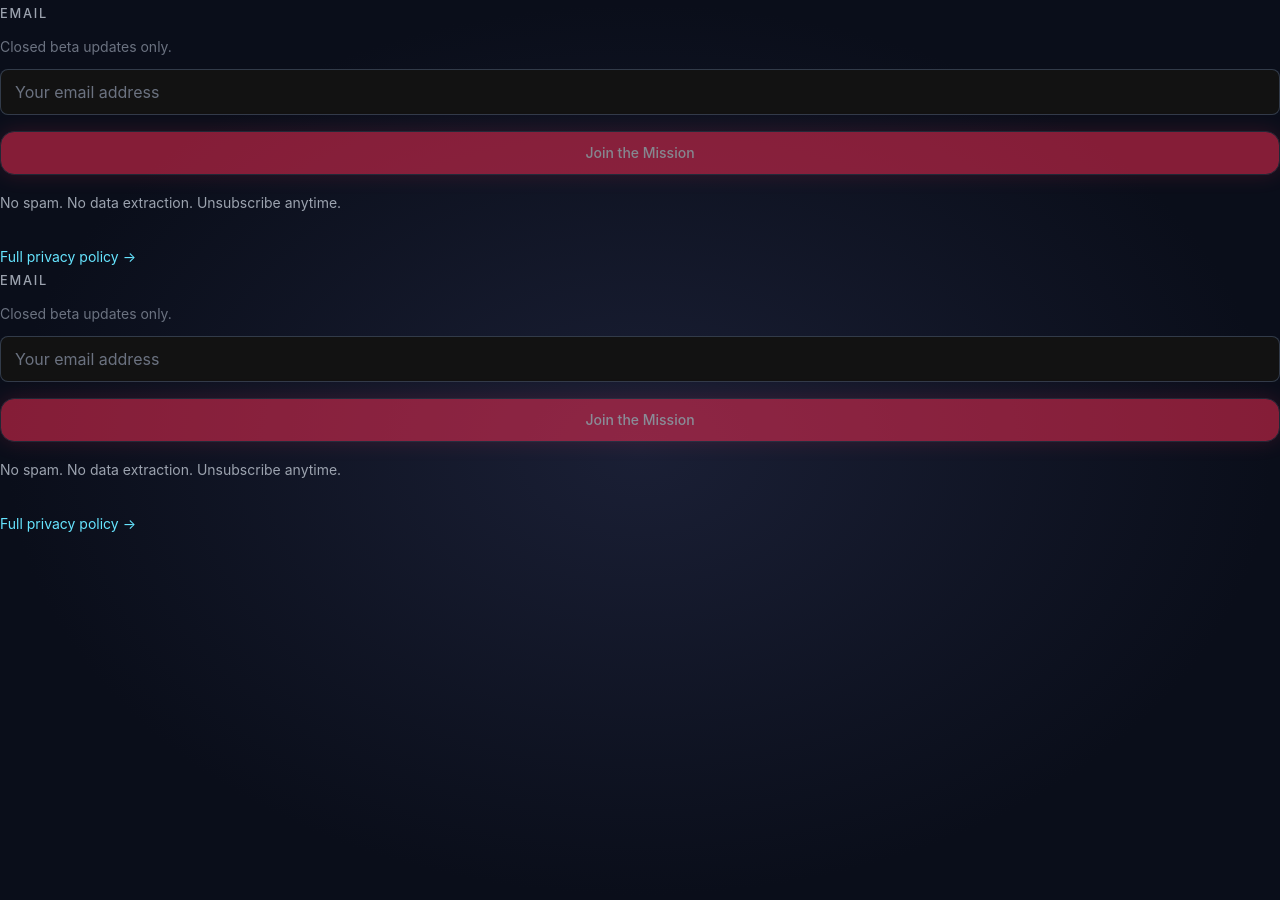
Test: WaitlistForm › syncs the confirmation state across multiple form instances
The image size is (1280, 900).
Type "person@example.com" into the 1st field labelled "Email" at (640, 92), box [0, 69, 1279, 115]
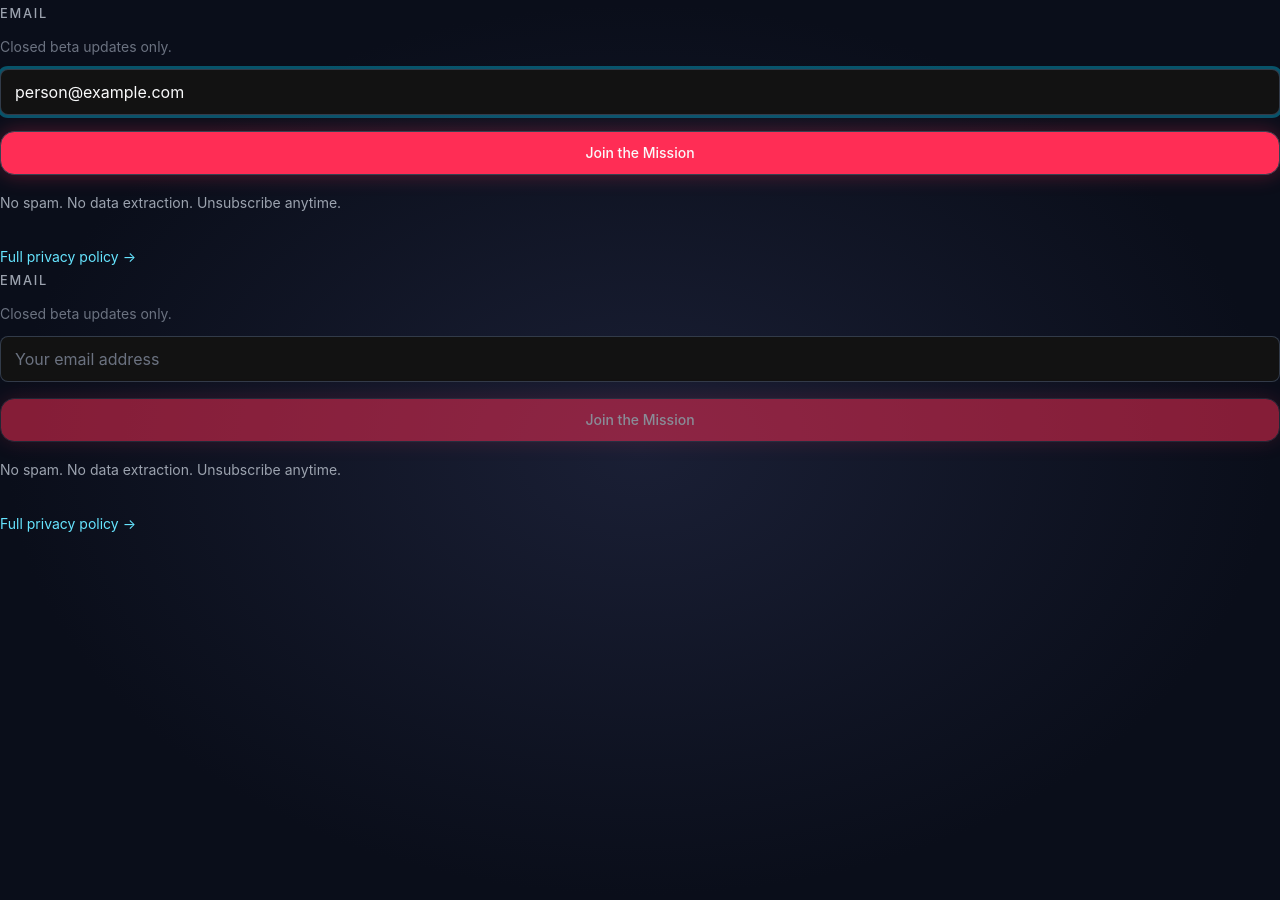
Click the 1st button "Join the Mission" at (640, 153), box [0, 131, 1279, 175]
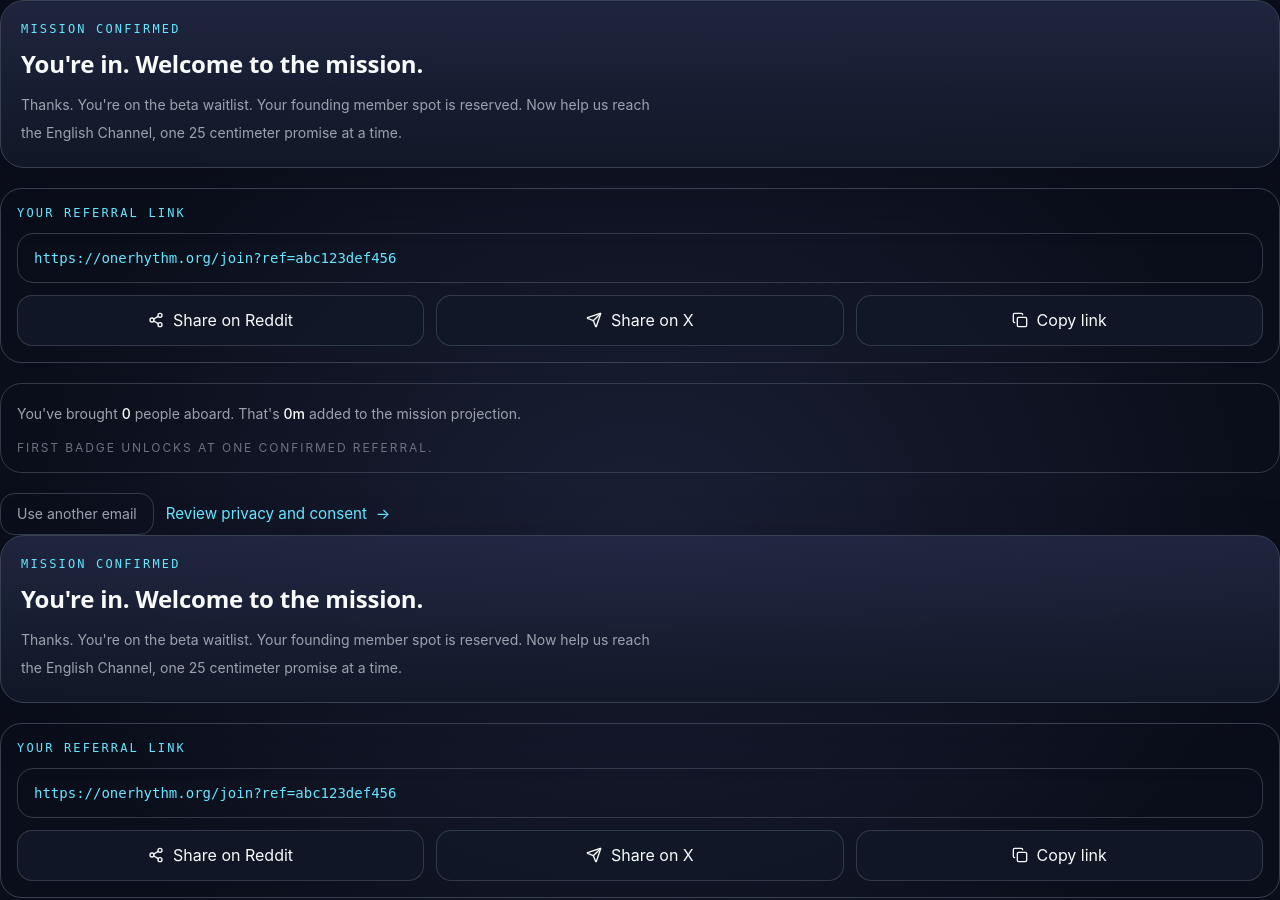
Check: the number of headings "You're in. Welcome to the mission." is 2, box [21, 47, 423, 80]; [21, 582, 423, 615]
